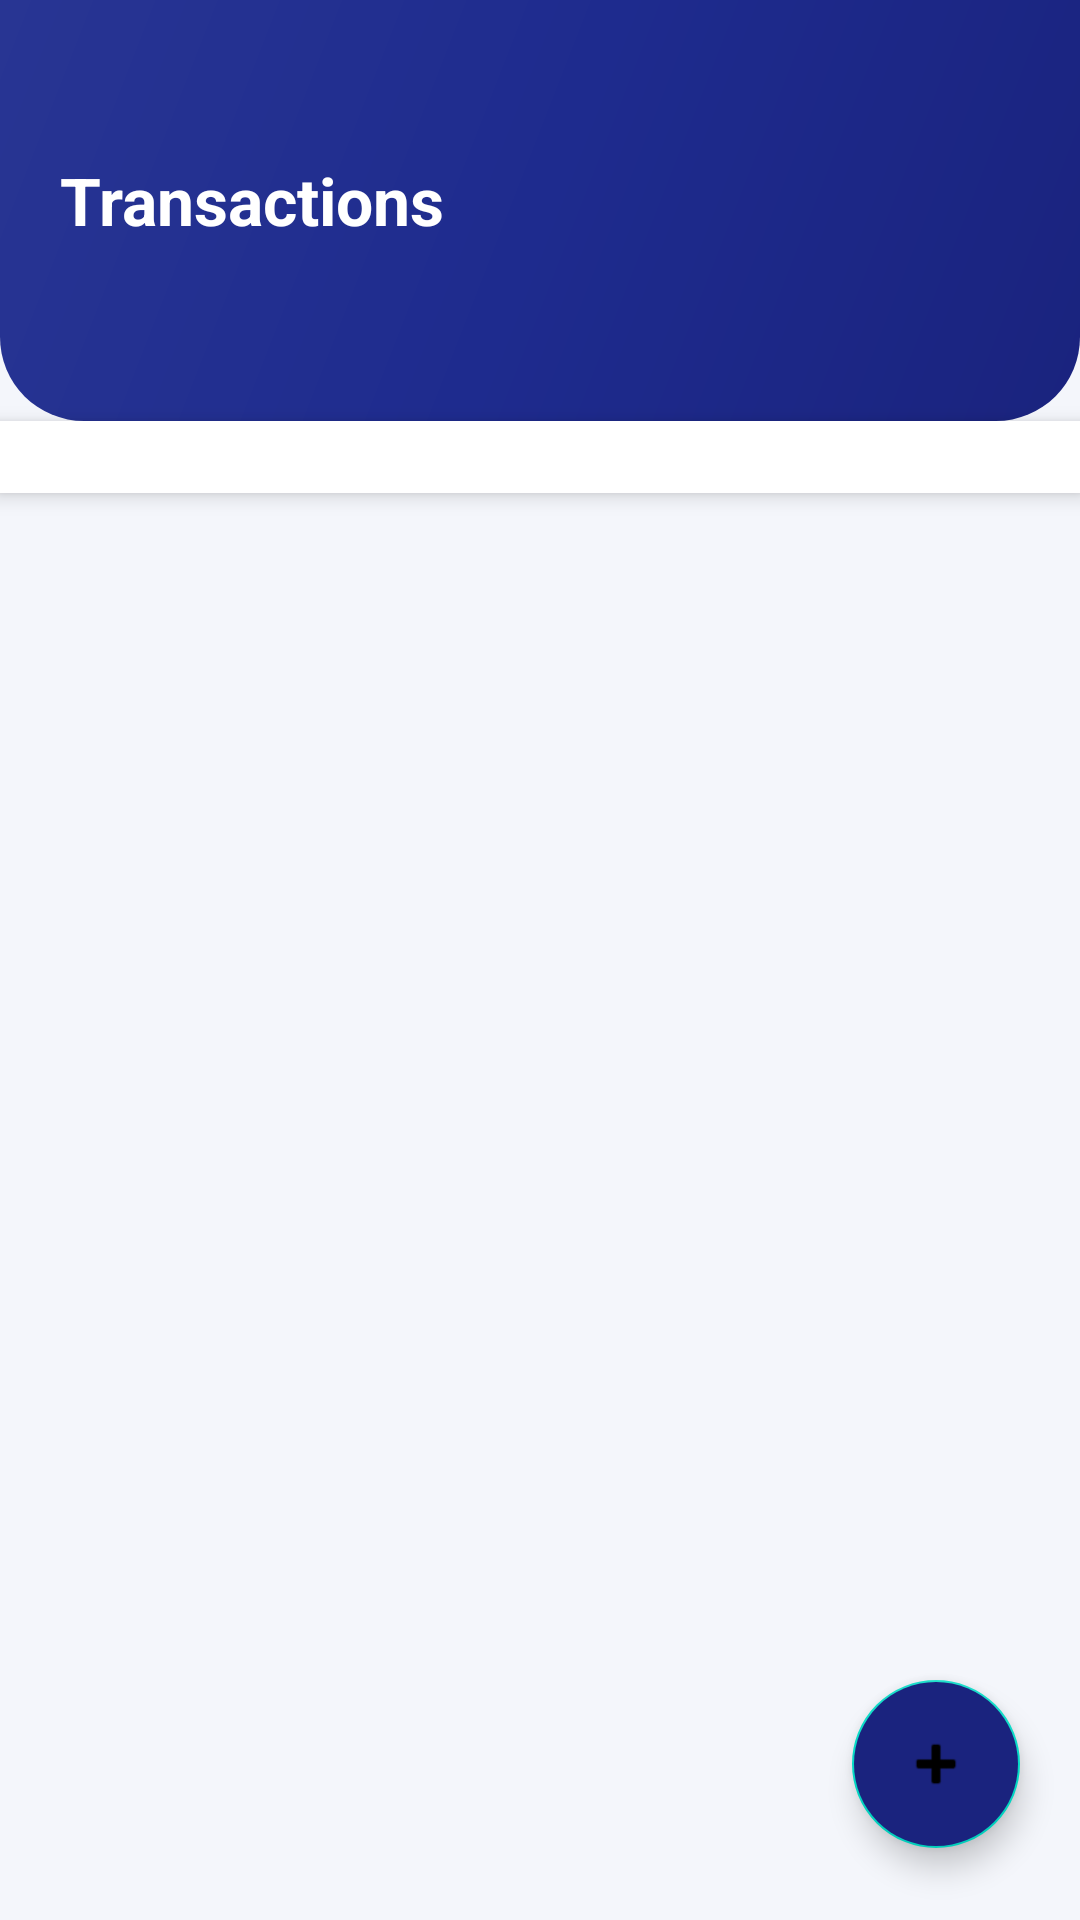

Locate icon controls on the screen. Image size 1080w x 1920h, boxes as (x1, y1, x2, y2).
Add transaction: (852, 1680, 1020, 1848)
